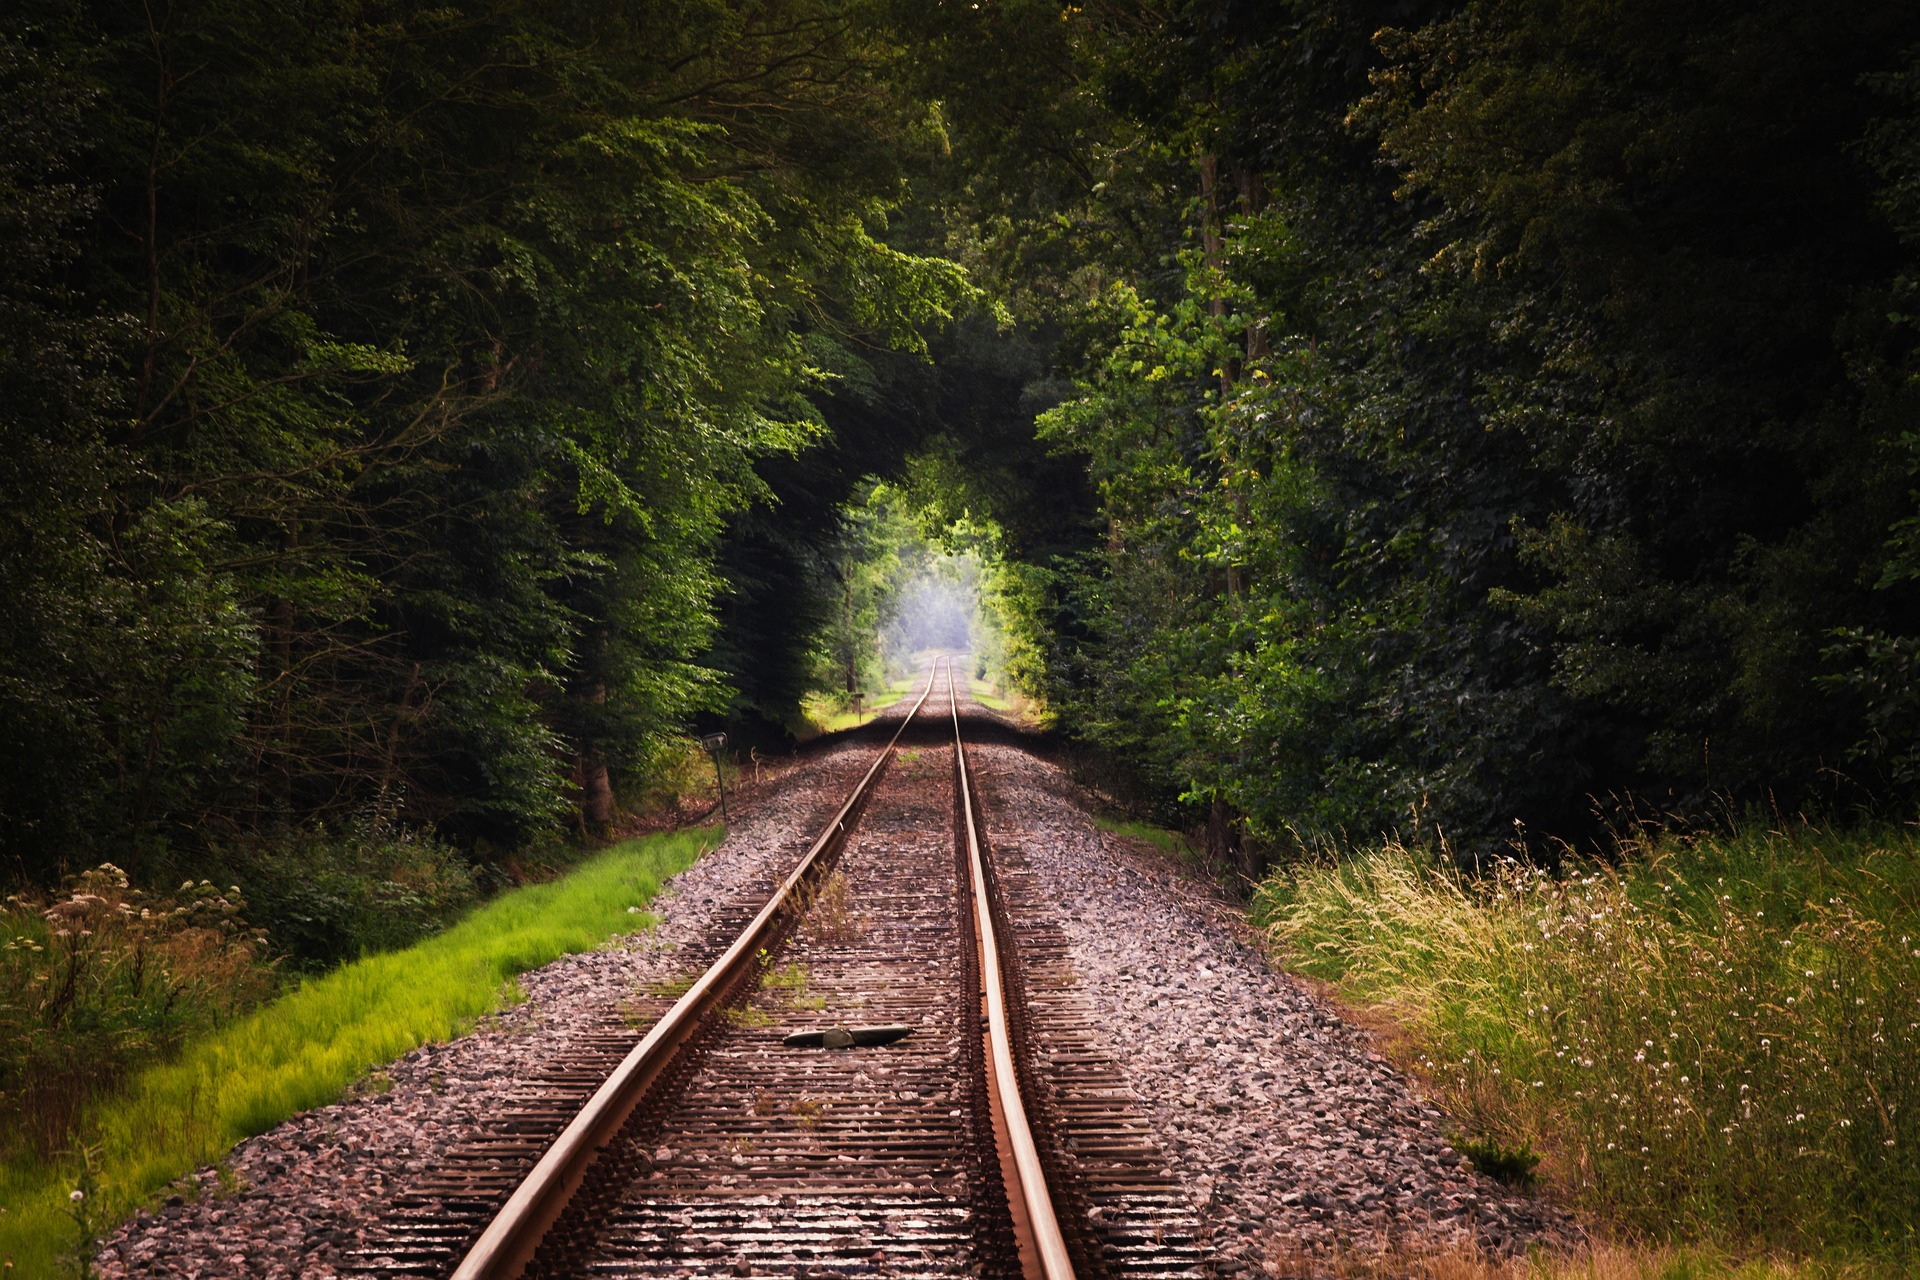voie1: (453, 657, 1069, 1276)
